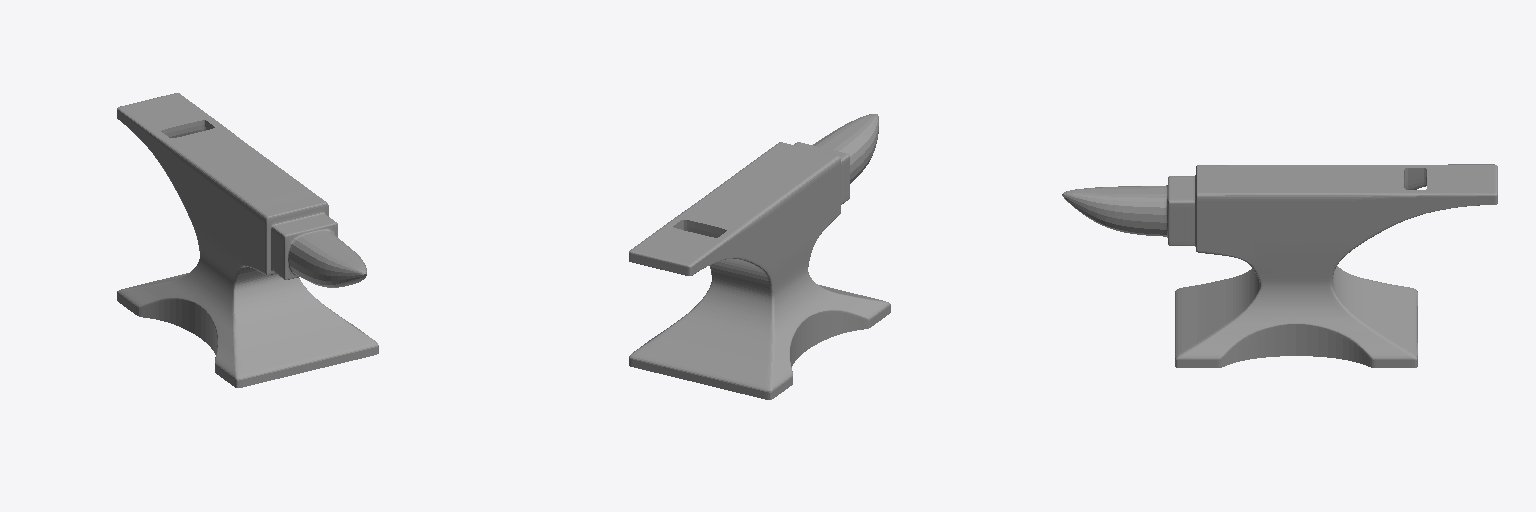
The model's file is anvil.obj.
The picture shows the model from 3 angles: view 1: azimuth 30°, elevation 25°; view 2: azimuth 150°, elevation 25°; view 3: azimuth 270°, elevation 25°; orthographic projection.
Parts seen in each view (by area): view 1: anvil.001_Plane.006; view 2: anvil.001_Plane.006; view 3: anvil.001_Plane.006.
Boxes of the visible parts, box(x1,y1,x2,y2) form: anvil.001_Plane.006: box(117, 93, 378, 387); anvil.001_Plane.006: box(629, 114, 890, 399); anvil.001_Plane.006: box(1062, 164, 1497, 367).
Size of the model in its own units: 1.7 by 1.75 by 4.49.